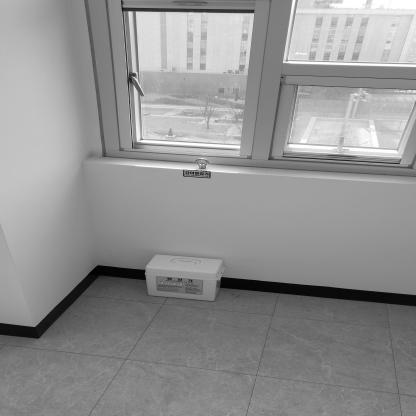DDL: (146, 255, 220, 303)
